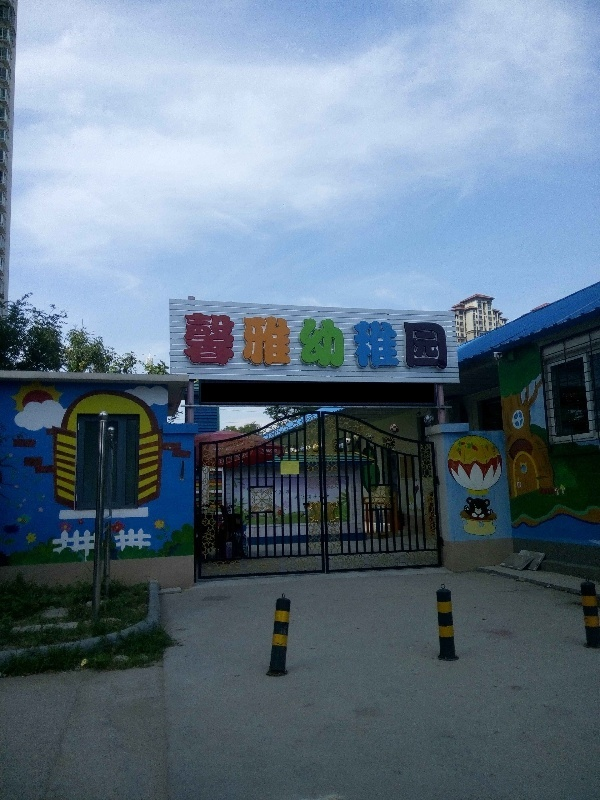text: (193, 314, 208, 374), (209, 314, 224, 374), (225, 314, 240, 374), (241, 314, 256, 374), (257, 314, 272, 374), (273, 314, 288, 374), (289, 314, 304, 374), (305, 314, 320, 374), (321, 314, 336, 374), (337, 314, 352, 374), (353, 314, 368, 374), (369, 314, 384, 374), (385, 314, 400, 374), (401, 314, 416, 374), (417, 314, 432, 374), (433, 314, 448, 374), (182, 314, 192, 374), (449, 314, 451, 374)
